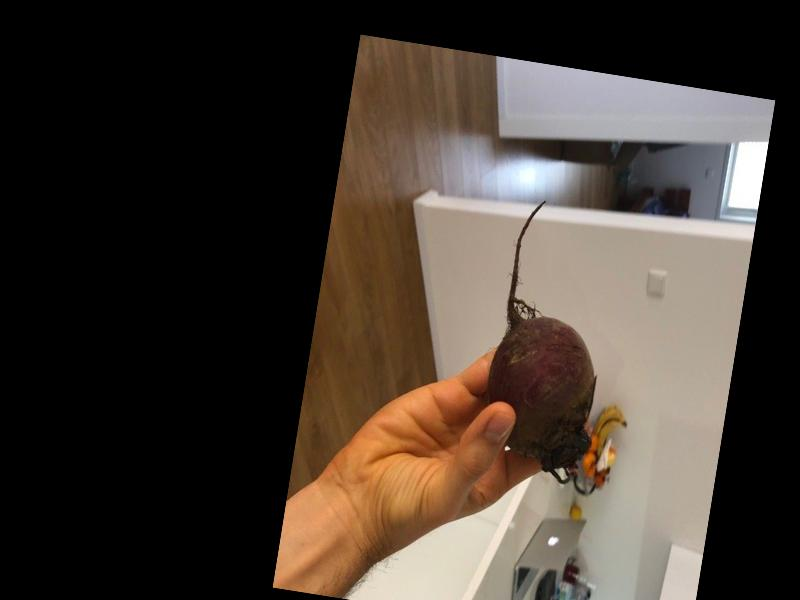Beet: (475, 195, 626, 485)
